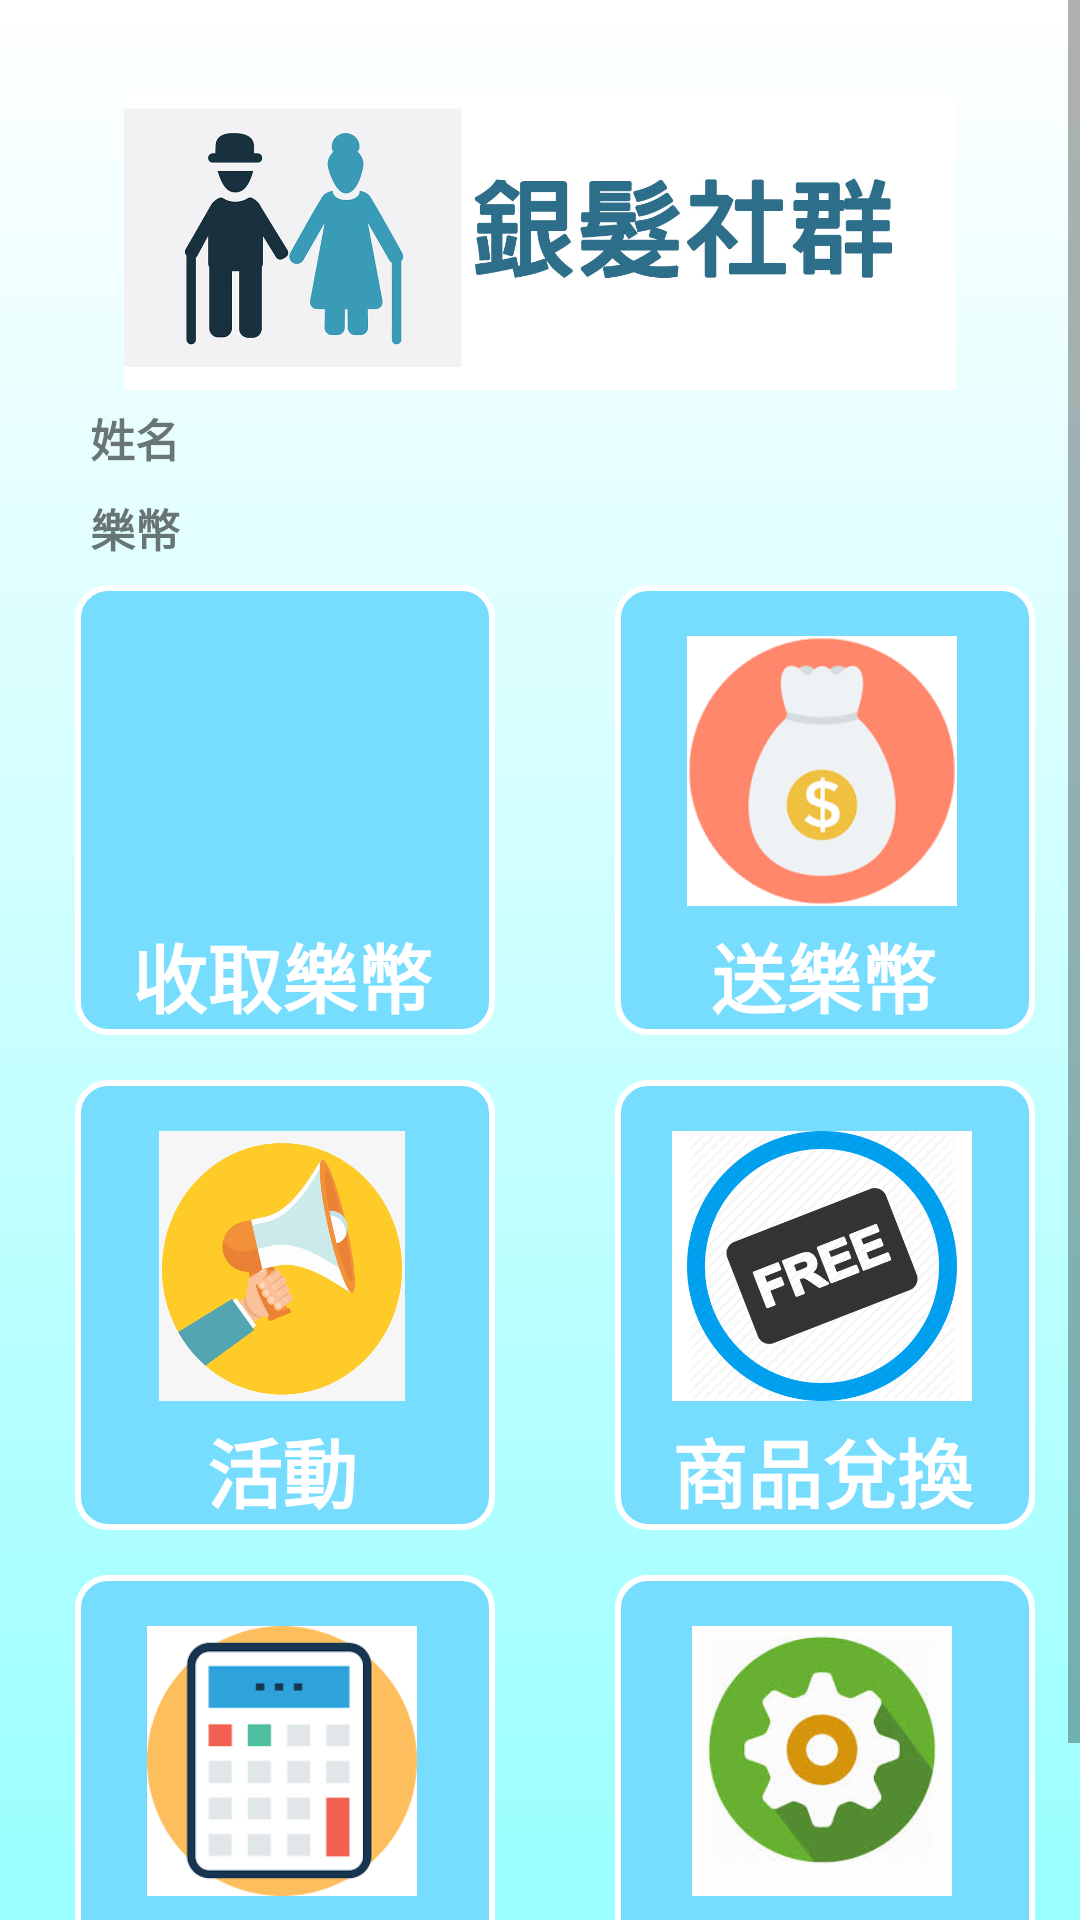

Screen size 1080×1920. Icon name, then its box in pixels as (x1, y1, x2, y2):
accounting: (147, 1626, 417, 1896)
setting: (692, 1626, 952, 1896)
